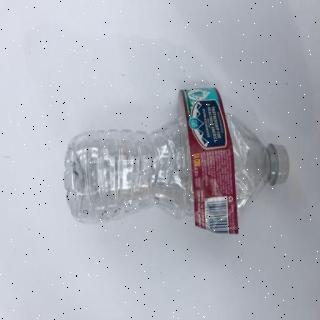Plastic-bottle: (63, 85, 293, 240)
